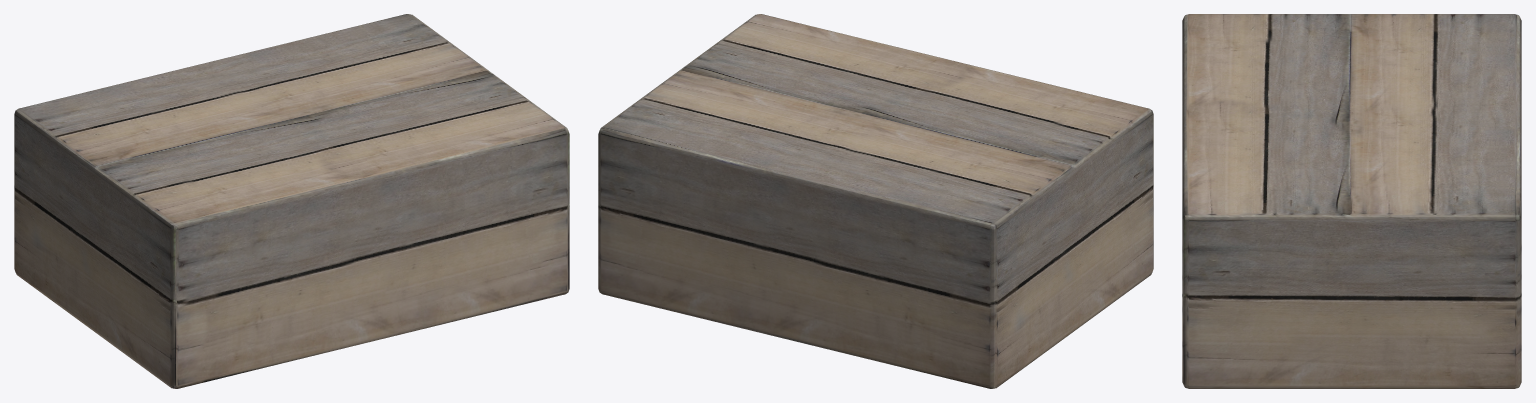
The model's file is Furniture_Step.fbx.
3 renders of one model, left to right at view 1: azimuth 30°, elevation 25°; view 2: azimuth 150°, elevation 25°; view 3: azimuth 270°, elevation 25°, orthographic. The views are drawn at different scales.
Parts seen in each view (by area): view 1: Step1; view 2: Step1; view 3: Step1.
Boxes of the visible parts, x1,y1,x2,y2 form: Step1: [14, 14, 569, 388]; Step1: [598, 14, 1153, 388]; Step1: [1182, 14, 1521, 388].
Bounding box in the file's own units: 1 × 0.4 × 0.7.
Materials: 1 (1 with a texture image).
